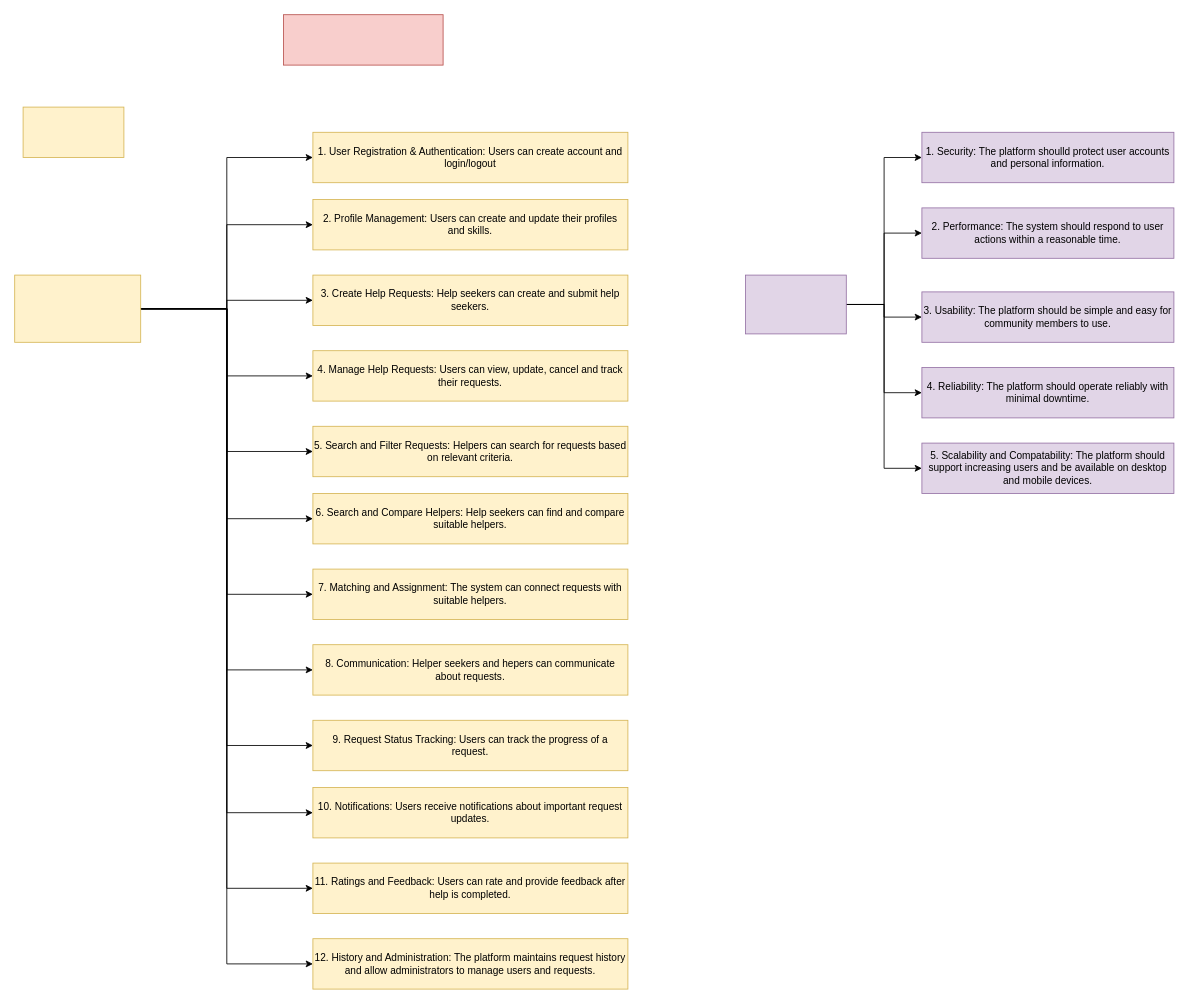
Image size: 1189x1004. Some labels were removed from this diagram. Here are the shapes that lost their labels. From the top down, the centre of each, then its label:
At (x=363, y=39): "Techlarious Exam".
At (x=73, y=132): "Question 2".
At (x=77, y=308): "12 Functional Requirements".
At (x=795, y=304): "5 Non-Functional Requirements".
